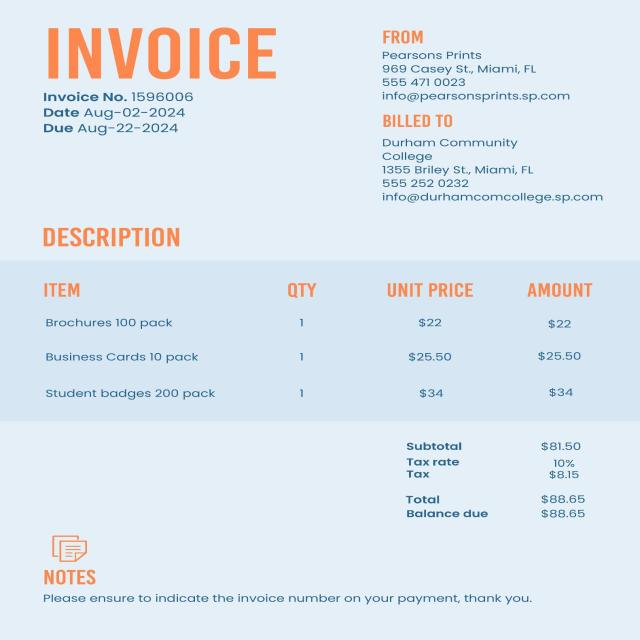paragraph: (41, 529, 549, 617), (364, 108, 612, 208), (389, 432, 607, 525), (364, 25, 582, 105), (34, 16, 293, 83), (29, 92, 214, 140)
table: (19, 218, 625, 422)
